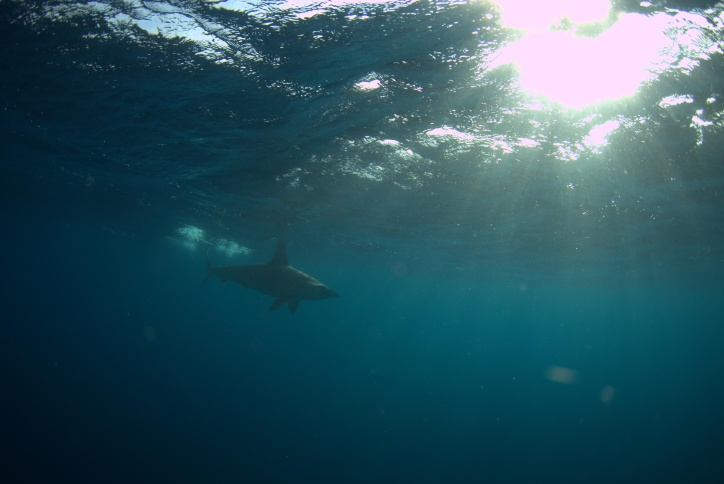Hammer: (179, 231, 343, 323)
